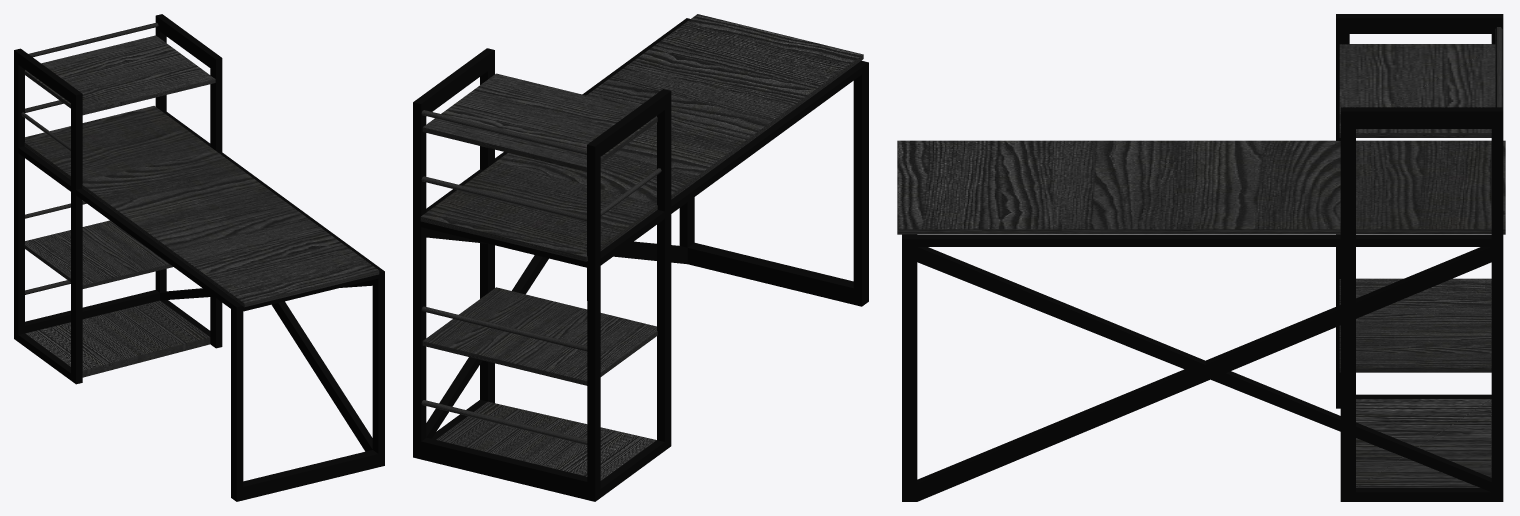
Rendered from BrosRoom_Desk.fbx.
3 views of the same model, side by side, from view 1: azimuth 30°, elevation 25°; view 2: azimuth 150°, elevation 25°; view 3: azimuth 270°, elevation 25° (orthographic). The views are drawn at different scales.
Parts seen in each view (by area): view 1: Secretaria.002; view 2: Secretaria.002; view 3: Secretaria.002.
Part boxes in pixels (bbox=[...]): Secretaria.002: bbox=[14, 14, 384, 501]; Secretaria.002: bbox=[413, 14, 868, 501]; Secretaria.002: bbox=[897, 14, 1505, 501].
Size of the model in its own units: 64.54 by 120 by 170.
Materials: 2 (1 with a texture image).
